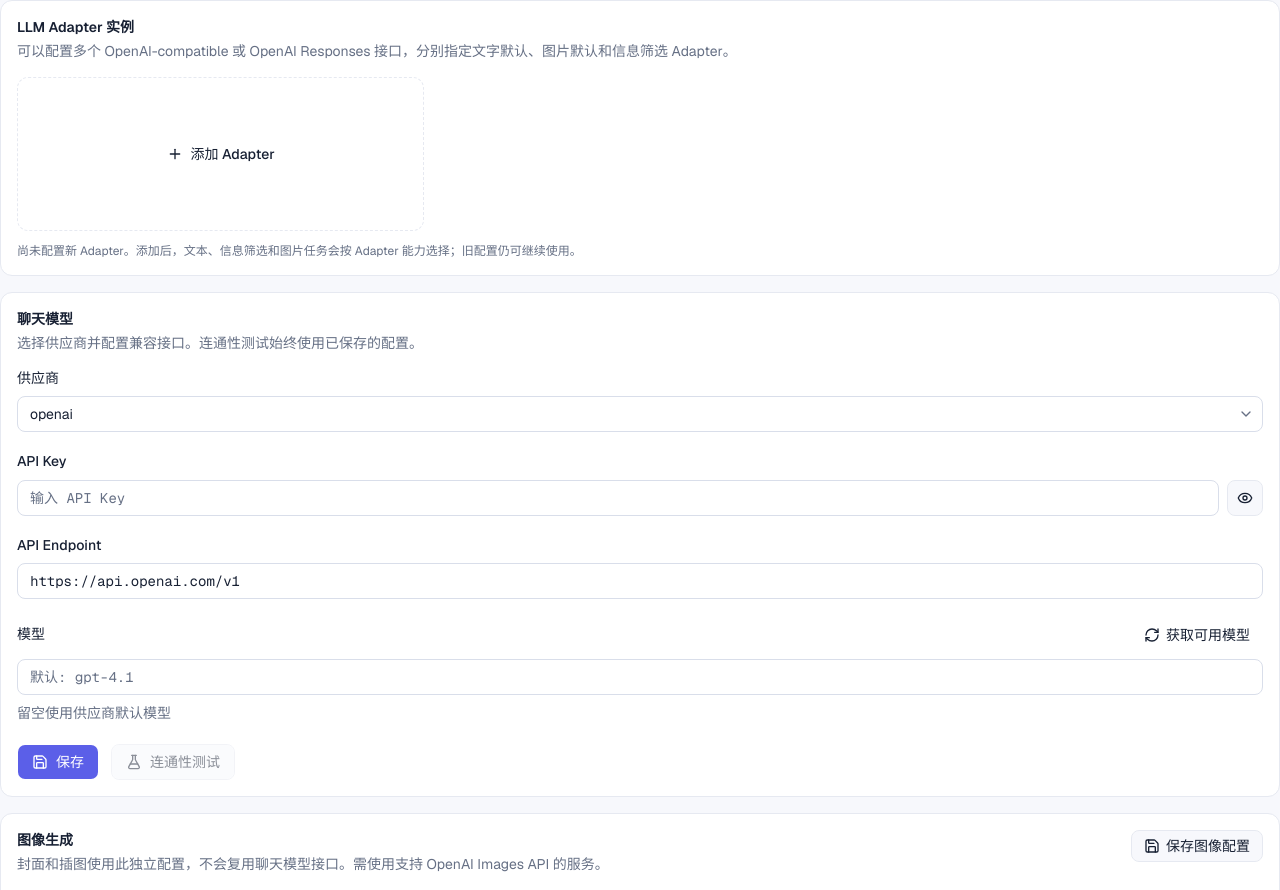
Test case: AISection › navigates model suggestions with arrow keys and selects the active option with Enter
The width and height of the screenshot is (1280, 890).
Click the button "获取可用模型": (1197, 635) top-left (1131, 619), bottom-right (1263, 651)
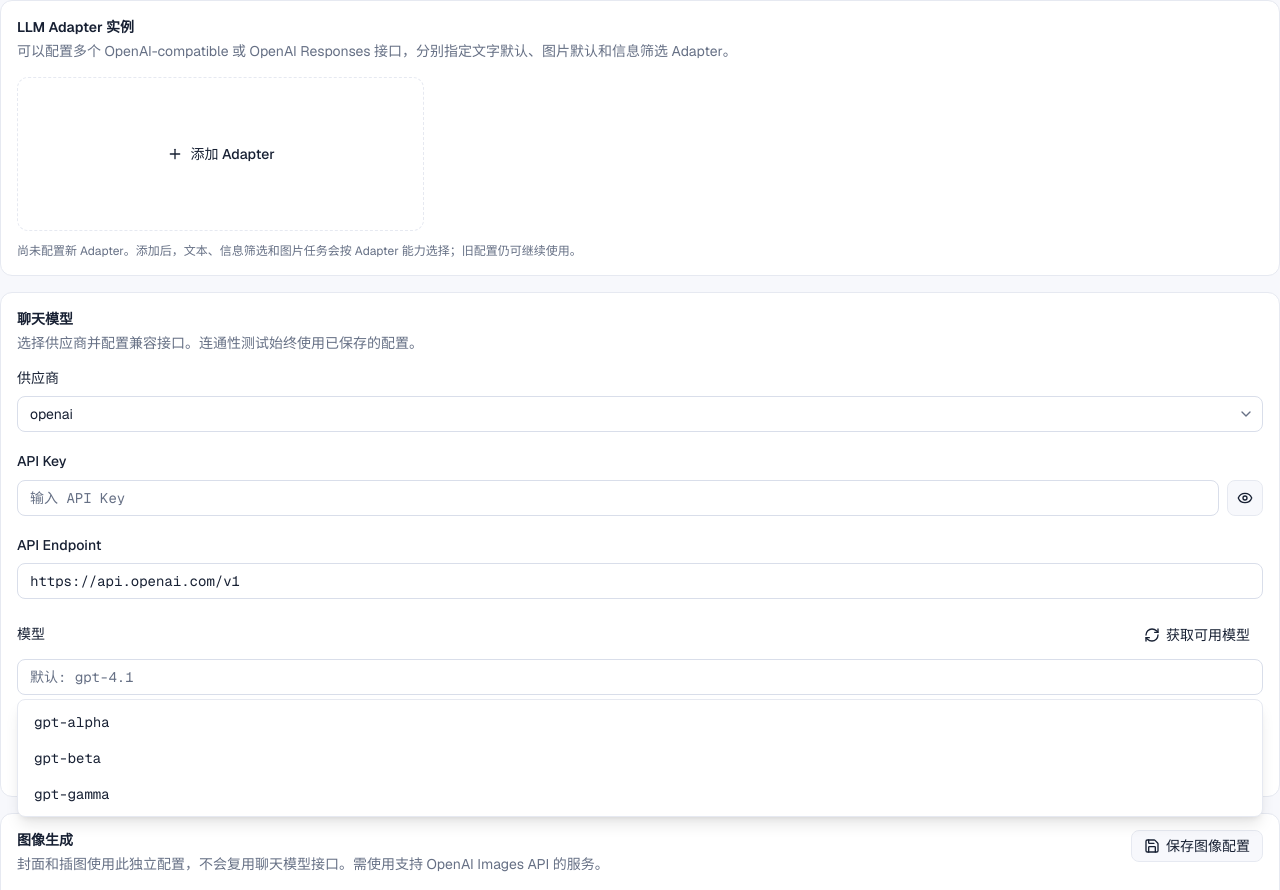
Result: the option "gpt-alpha" is shown at top-left (22, 704), bottom-right (1258, 740)
Click the dropdown labelled "模型": (640, 677) top-left (17, 659), bottom-right (1263, 695)
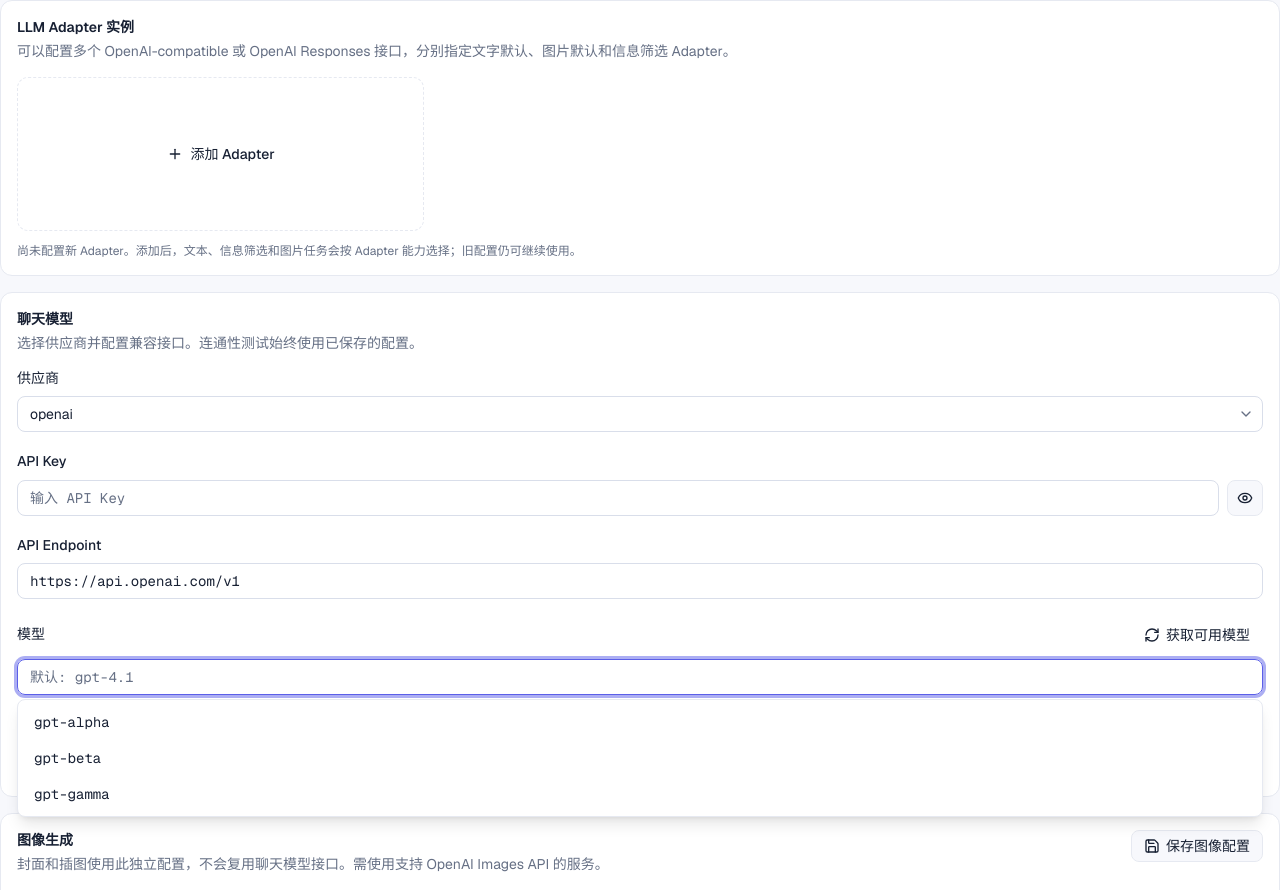
Press Arrowdown Arrowdown Arrowup
Result: the option "gpt-alpha" is shown at top-left (22, 704), bottom-right (1258, 740)
Press Enter
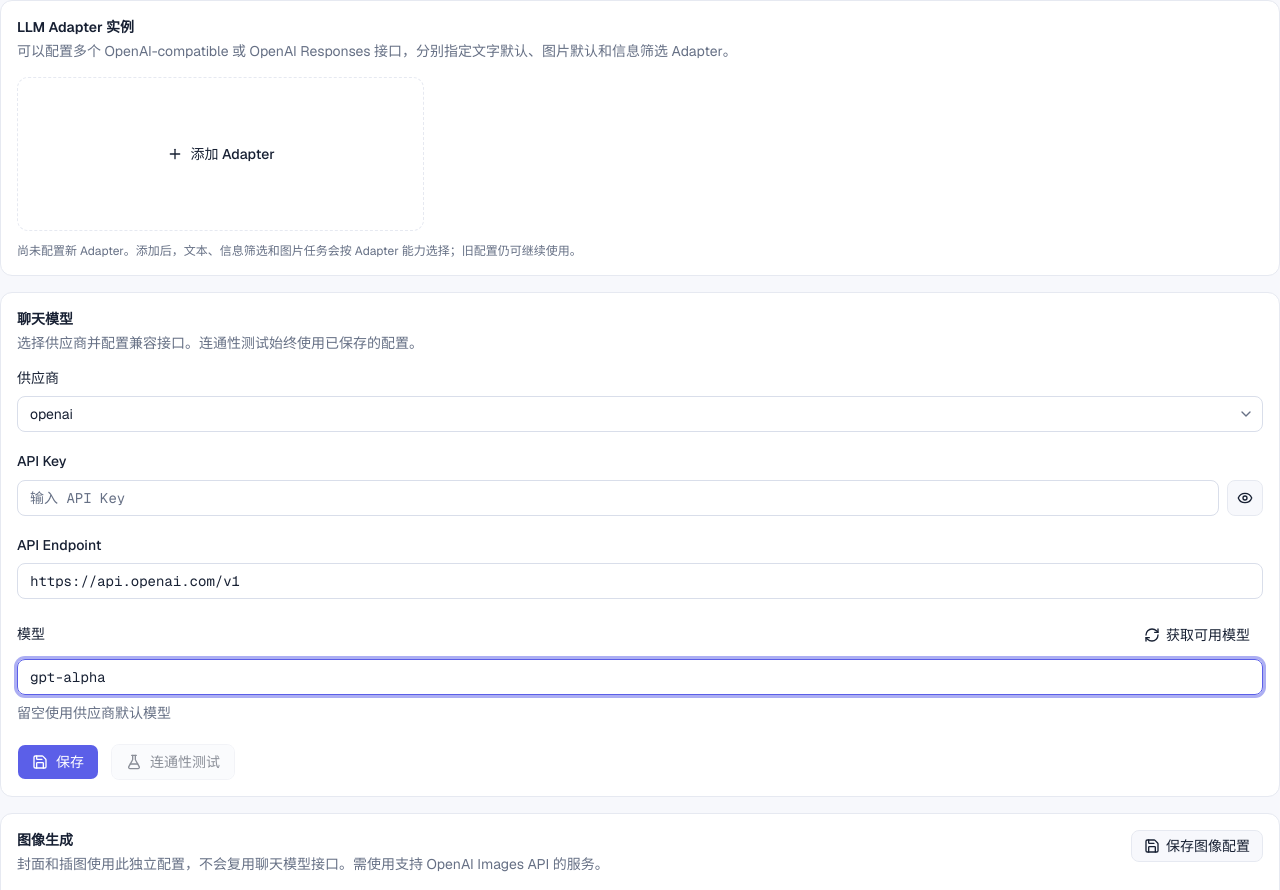
Result: the dropdown labelled "模型" holds "gpt-alpha" at top-left (17, 659), bottom-right (1263, 695)
Result: the dropdown labelled "模型" is collapsed at top-left (17, 659), bottom-right (1263, 695)
Result: the list is gone
